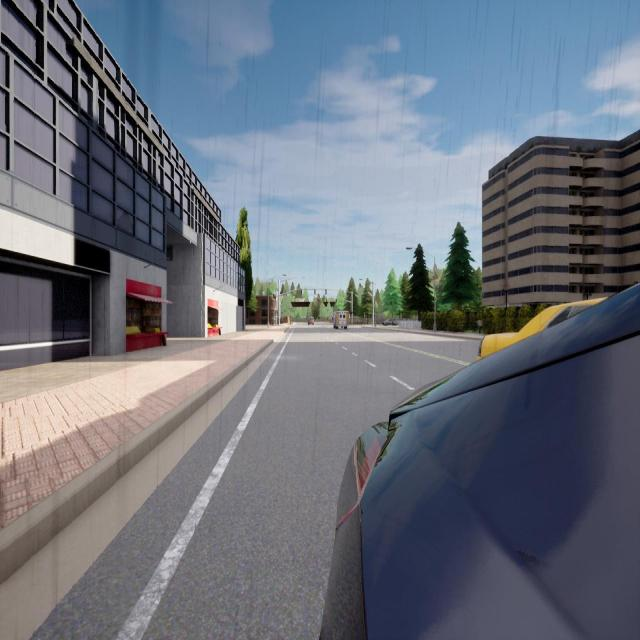Vehicle: (321, 284, 639, 638), (476, 298, 607, 359), (334, 311, 348, 329), (383, 319, 397, 326), (308, 317, 314, 325)
traffic_light: (314, 290, 316, 294), (350, 311, 352, 314), (301, 289, 302, 295), (326, 298, 327, 302), (318, 299, 319, 302), (336, 299, 337, 302), (326, 290, 326, 294)
